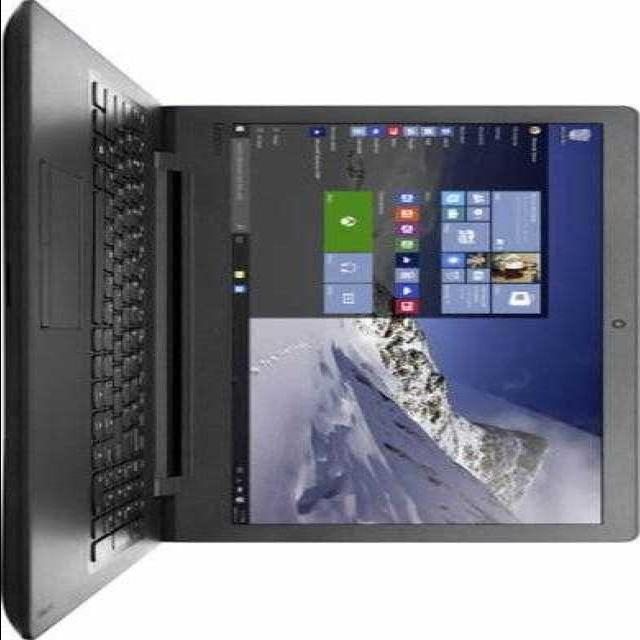laptop: (0, 68, 634, 622)
